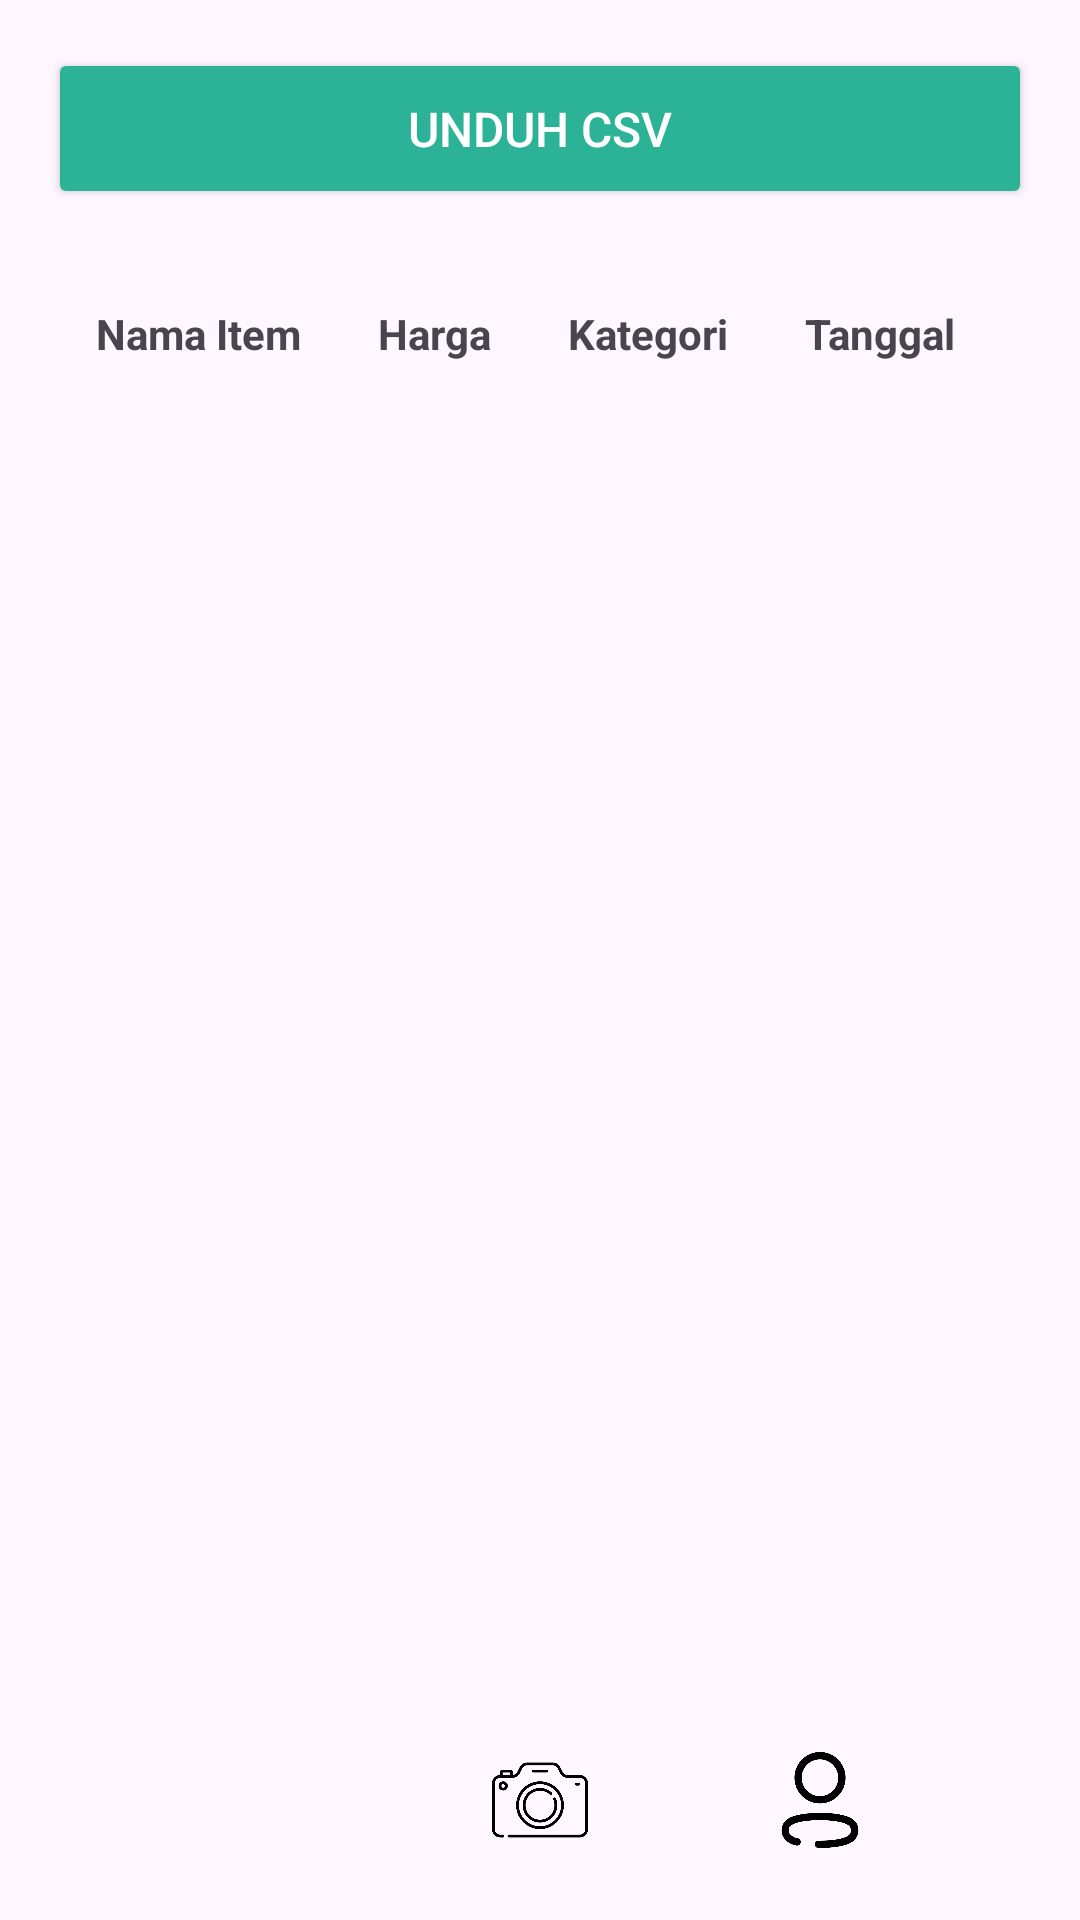

Icons on this 1080px×1920px Android screen, each with the point to tap as [x,y]:
camera: [540,1800]
profilecandidate: [820,1800]
